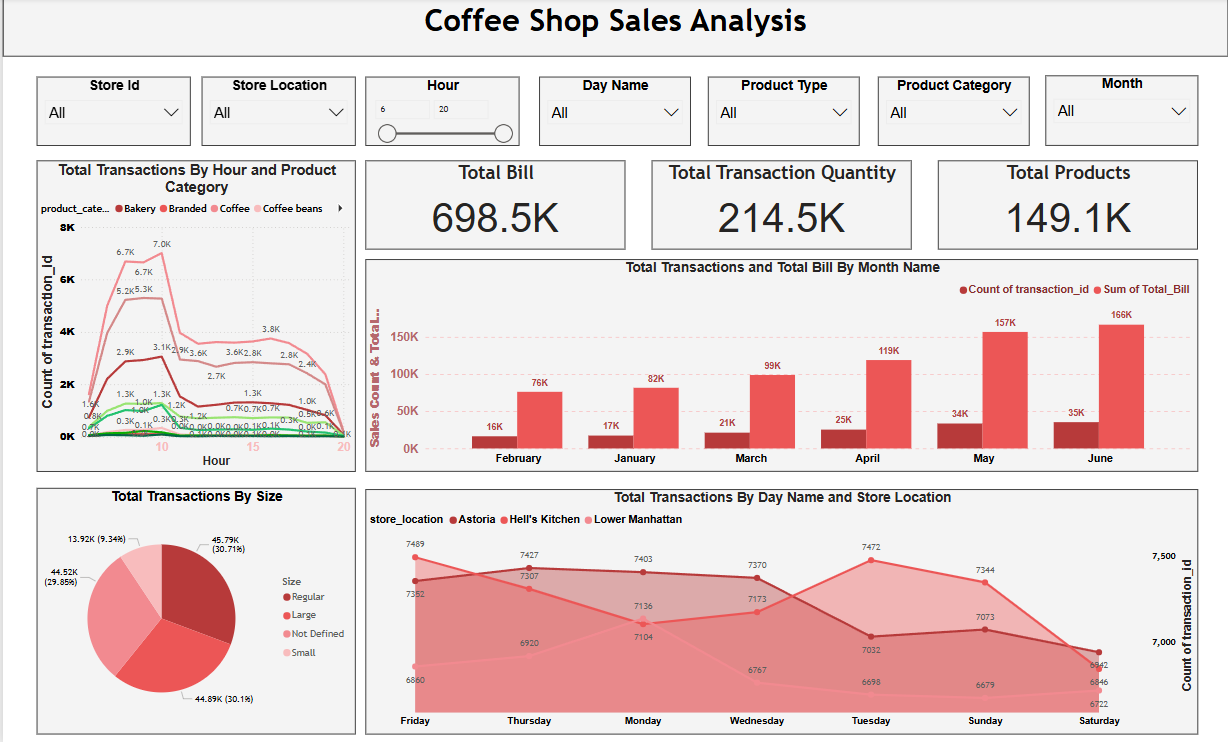

The page's visual inventory and layout, read from the dashboard file:
{"tool":"powerbi","page":{"name":"Page 1","canvas":[1675,1020],"ordinal":0},"visuals":[{"type":"lineChart","title":"Total Transactions By Hour and Product Category","fields":{"Y":["CountNonNull(Coffee Sales Data.transaction_id)"],"Category":["Coffee Sales Data.Hour"],"Series":["Coffee Sales Data.product_category"]},"box":[46.1,222.2,435.8,425.6],"z":1000},{"type":"pieChart","title":"Total Transactions By Size","fields":{"Category":["Coffee Sales Data.Size"],"Y":["Count(Coffee Sales Data.transaction_id)"]},"box":[46.1,670,435.8,336.7],"z":2000},{"type":"clusteredColumnChart","title":"Total Transactions and Total Bill By Month Name","fields":{"Category":["Coffee Sales Data.Month Name"],"Y":["CountNonNull(Coffee Sales Data.transaction_id)","Sum(Coffee Sales Data.Total_Bill)"]},"box":[495.6,357.2,1138.3,290.6],"z":5000},{"type":"areaChart","title":"Total Transactions By Day Name and Store Location","fields":{"Category":["Coffee Sales Data.Day Name"],"Y2":["CountNonNull(Coffee Sales Data.transaction_id)"],"Series":["Coffee Sales Data.store_location"]},"box":[495.6,671.7,1138.3,335],"z":6000},{"type":"textbox","box":[0,0,1674.9,80.3],"z":7000},{"type":"slicer","title":"Month","fields":{"Values":["Coffee Sales Data.Month"]},"box":[1425.4,106,208.5,95.7],"z":8000},{"type":"card","title":"Total Transaction Quantity","fields":{"Values":["Sum(Coffee Sales Data.transaction_qty)"]},"box":[887,222.2,355.5,121.3],"z":9000},{"type":"slicer","title":"Day Name","fields":{"Values":["Coffee Sales Data.Day Name"]},"box":[733.2,107.7,206.8,94],"z":12000},{"type":"slicer","title":"Hour","fields":{"Values":["Coffee Sales Data.Hour"]},"box":[495.6,107.7,210.2,94],"z":13000},{"type":"slicer","title":"Product Category","fields":{"Values":["Coffee Sales Data.product_category"]},"box":[1196.4,107.7,206.8,94],"z":14000},{"type":"slicer","title":"Product Type","fields":{"Values":["Coffee Sales Data.product_type"]},"box":[963.9,107.7,206.8,94],"z":15000},{"type":"slicer","title":"Store Location","fields":{"Values":["Coffee Sales Data.store_location"]},"box":[271.8,107.7,210.2,94],"z":16000},{"type":"slicer","title":"Store Id","fields":{"Values":["Coffee Sales Data.store_id"]},"box":[46.1,107.7,210.2,94],"z":17000},{"type":"card","title":"Total Bill","fields":{"Values":["Sum(Coffee Sales Data.Total_Bill)"]},"box":[495.6,222.2,355.5,121.3],"z":18000},{"type":"card","title":"Total Products","fields":{"Values":["CountNonNull(Coffee Sales Data.product_id)"]},"box":[1278.4,222.2,355.5,121.3],"z":18001}]}

Visuals, with their boxes in screenshot pixels (x1, y1, x2, y2), scaled from the page's 1675x1020 canvas onto the 1228x742 screenshot:
"Total Transactions By Hour and Product Category" lineChart: 34:162:353:471
"Total Transactions By Size" pieChart: 34:487:353:732
"Total Transactions and Total Bill By Month Name" clusteredColumnChart: 363:260:1198:471
"Total Transactions By Day Name and Store Location" areaChart: 363:489:1198:732
textbox: 0:0:1227:58
"Month" slicer: 1045:77:1198:147
"Total Transaction Quantity" card: 650:162:911:250
"Day Name" slicer: 538:78:689:147
"Hour" slicer: 363:78:517:147
"Product Category" slicer: 877:78:1029:147
"Product Type" slicer: 707:78:858:147
"Store Location" slicer: 199:78:353:147
"Store Id" slicer: 34:78:188:147
"Total Bill" card: 363:162:624:250
"Total Products" card: 937:162:1198:250
